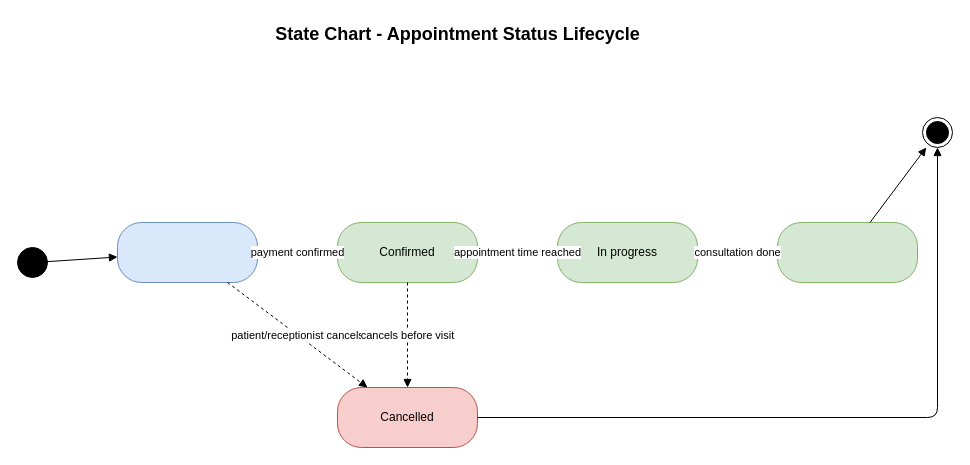
Some shapes in this 970 by 465 pixel diagram are drawn without their labels. Each missing label, with the box of its shape:
Completed: (776, 222, 918, 282)
Requested: (116, 222, 258, 282)
